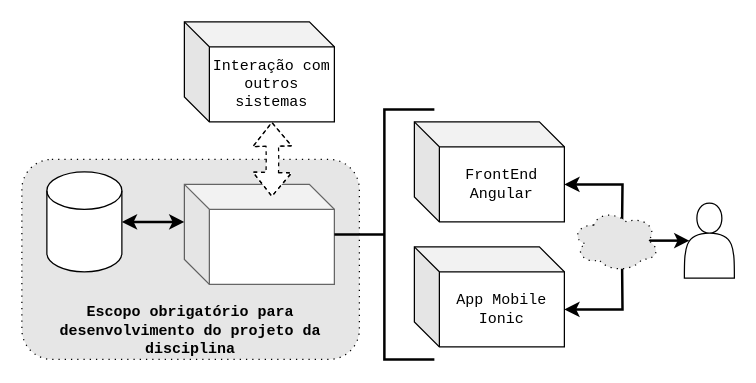
Image size: 756x383. Some labels were removed from this diagram. Each missing label, with the centre of its shape:
"BackEnd NodeJS" belongs at pixel 258 233.
"BD MySQL" belongs at pixel 84 221.
